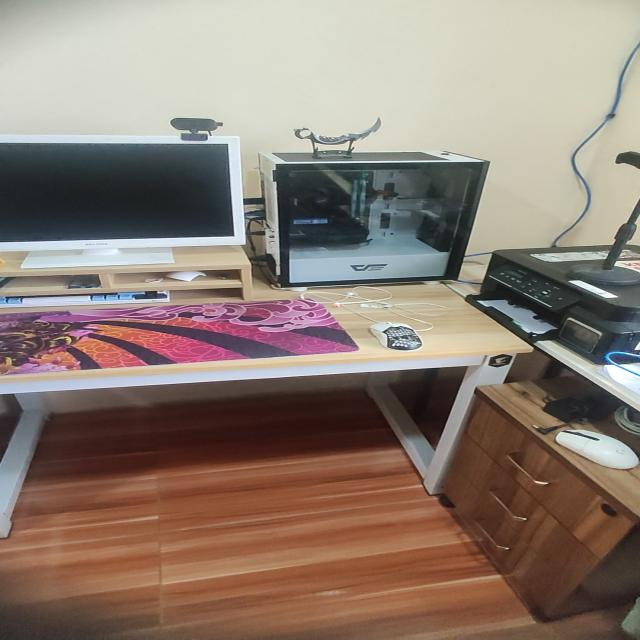table: (0, 271, 538, 548)
